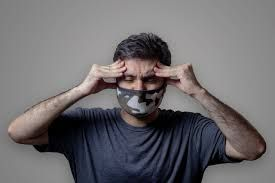with-mask: (111, 39, 169, 118)
